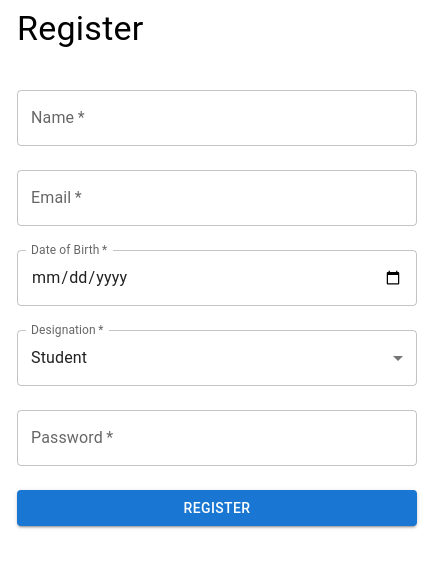
Register Component › shows error message on registration failure
In the field labelled "Name *": (217, 118) [17,90,417,146], type "John Doe"
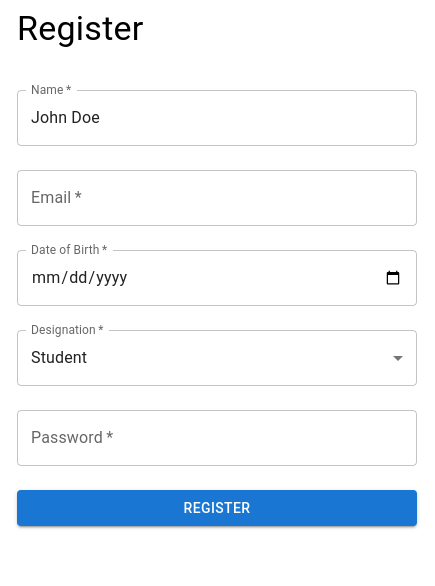
In the field labelled "Email *": (217, 198) [17,170,417,226], type "john@example.com"
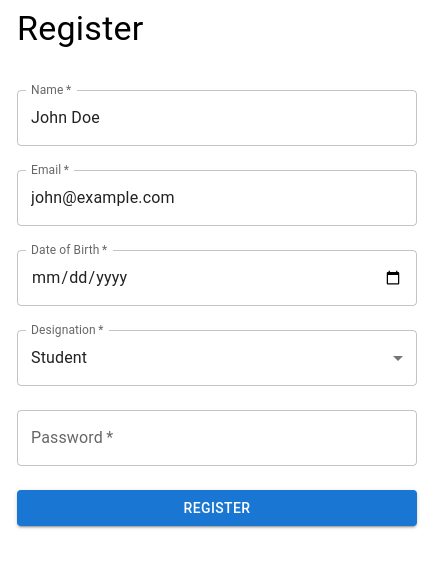
In the date field labelled "Date of Birth *": (217, 278) [17,250,417,306], type "2000-01-01"
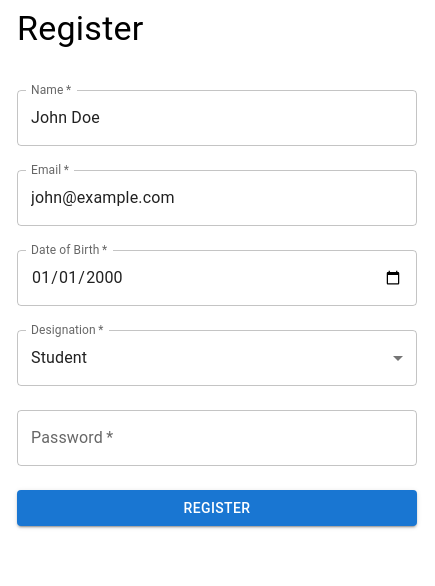
Select "Student" in the dropdown labelled "Designation *": (217, 358) [17,330,417,386]
In the password field labelled "Password *": (217, 438) [17,410,417,466], type "password123"
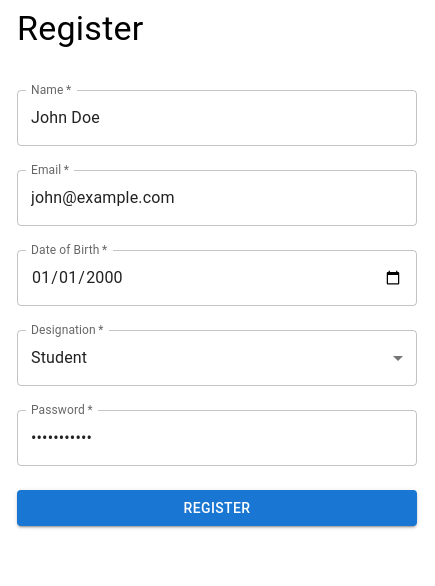
Click the button "Register": click(217, 508) [17,490,417,526]
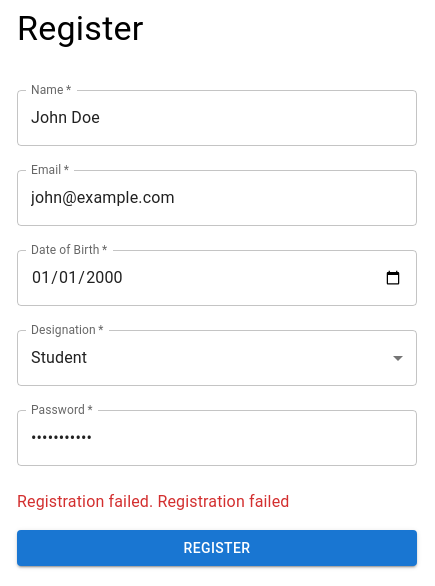
expect the text "Registration failed. Registration failed" is shown: met, box [17,492,290,511]
